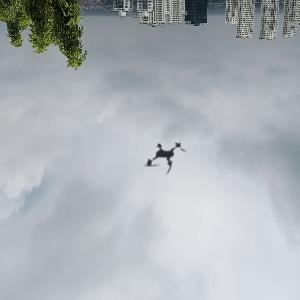drone: (126, 116, 206, 196)
